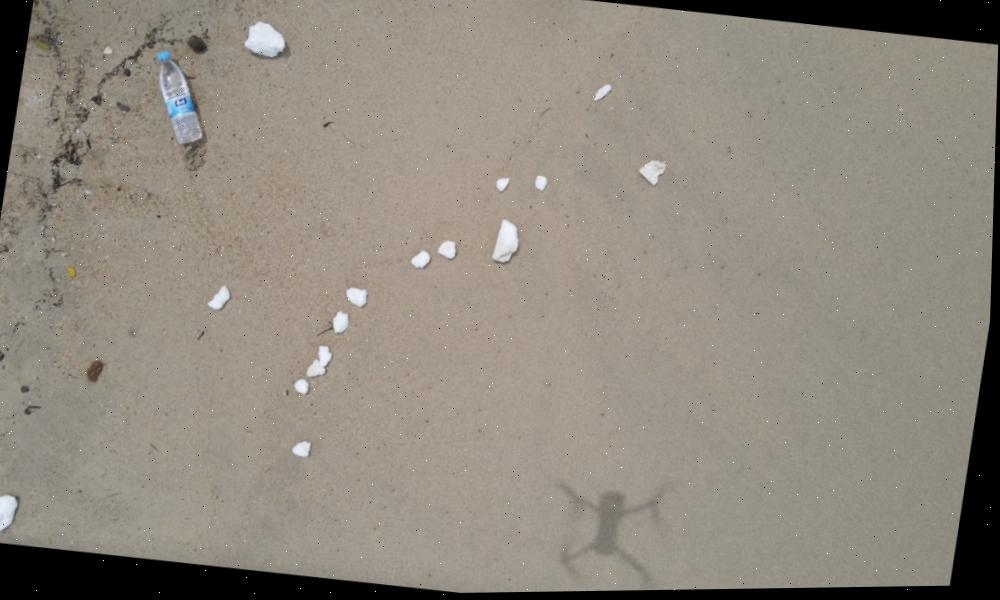plastic bottle: (144, 48, 215, 149)
styrofoam: (245, 20, 287, 58), (495, 222, 520, 263), (0, 491, 22, 532), (311, 348, 335, 380), (640, 160, 667, 186), (210, 284, 233, 310), (348, 285, 372, 309), (331, 311, 352, 336), (438, 238, 456, 260), (593, 79, 610, 102), (295, 379, 314, 395), (415, 255, 434, 270), (535, 175, 549, 194), (497, 177, 512, 194), (299, 440, 313, 456), (414, 381, 416, 383)
